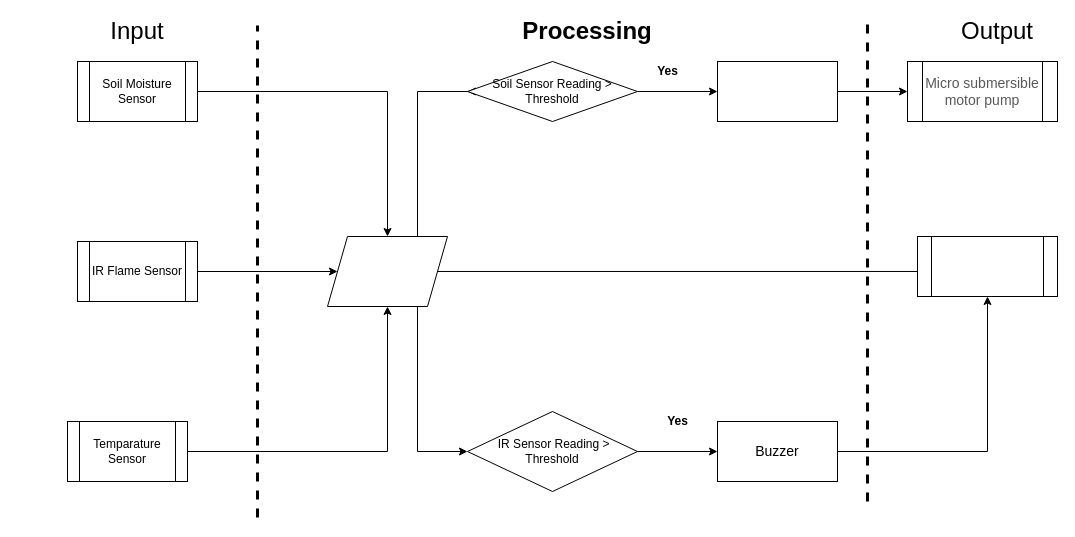
This 1075x537 diagram has some shape labels left out. The shapes that lost their labels are listed below. From the top down, each one's box as (x1, y1, x2, y2) in pixels, then its label:
(716, 60, 838, 122): motorL298D
(326, 236, 448, 306): Node MCU
(916, 236, 1058, 296): Android Application
